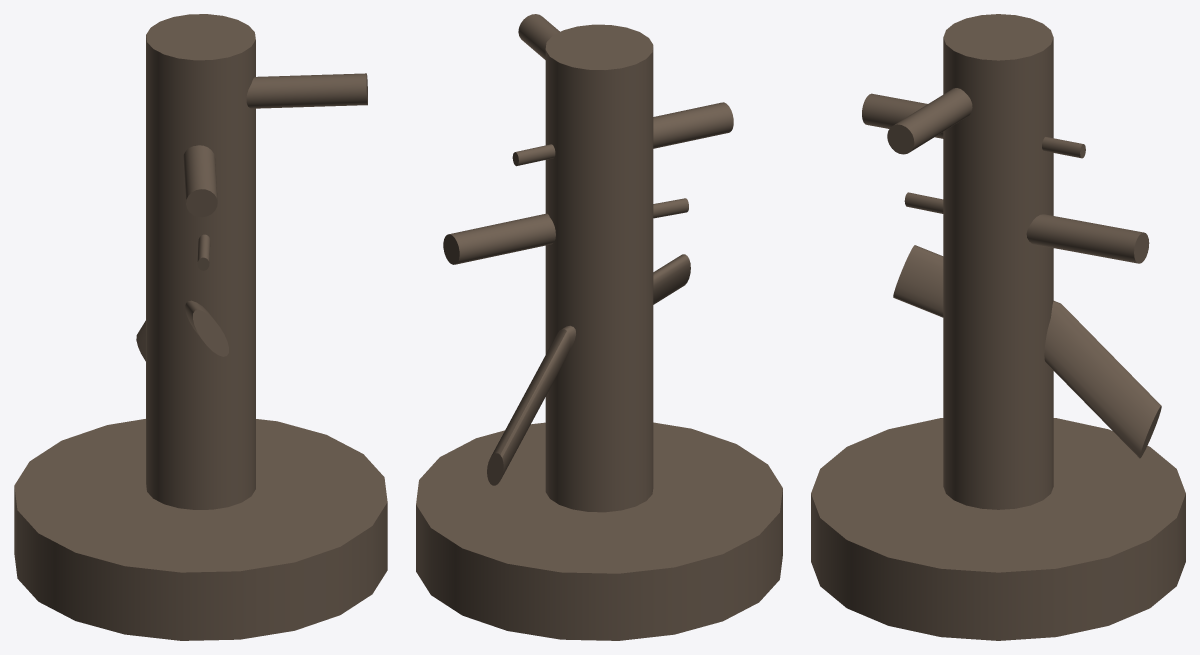
File: Jap Obstacle.fbx
3 views of the same model, side by side, from view 1: azimuth 30°, elevation 25°; view 2: azimuth 150°, elevation 25°; view 3: azimuth 270°, elevation 25° (orthographic).
Parts seen in each view (by area): view 1: pCylinder1, pCylinder2, pasted__pasted__pCylinder4, pasted__pCylinder4, pCylinder3; view 2: pCylinder1, pCylinder2, pCylinder3, pCylinder4, pasted__pCylinder4, pasted__pasted__pCylinder4, pasted__pCylinder5, pCylinder5; view 3: pCylinder1, pCylinder2, pCylinder3, pCylinder4, pasted__pasted__pCylinder4, pasted__pCylinder4, pasted__pCylinder5, pCylinder5.
Boxes of the visible parts, x1,y1,x2,y2 form: pCylinder1: [14, 419, 387, 640]; pCylinder2: [146, 14, 255, 509]; pasted__pasted__pCylinder4: [246, 73, 367, 108]; pasted__pCylinder4: [183, 145, 217, 217]; pCylinder3: [136, 300, 228, 361]; pCylinder1: [416, 422, 782, 640]; pCylinder2: [545, 24, 653, 512]; pCylinder3: [487, 254, 690, 485]; pCylinder4: [443, 213, 555, 264]; pasted__pCylinder4: [653, 102, 733, 148]; pasted__pasted__pCylinder4: [518, 14, 559, 59]; pasted__pCylinder5: [512, 144, 555, 166]; pCylinder5: [653, 198, 688, 218]; pCylinder1: [811, 418, 1185, 640]; pCylinder2: [943, 14, 1053, 509]; pCylinder3: [893, 245, 1161, 458]; pCylinder4: [1026, 214, 1149, 263]; pasted__pasted__pCylinder4: [887, 88, 972, 154]; pasted__pCylinder4: [862, 93, 943, 138]; pasted__pCylinder5: [1042, 137, 1085, 158]; pCylinder5: [904, 192, 943, 213].
Size of the model in its own units: 1.6 by 2.47 by 1.6.
